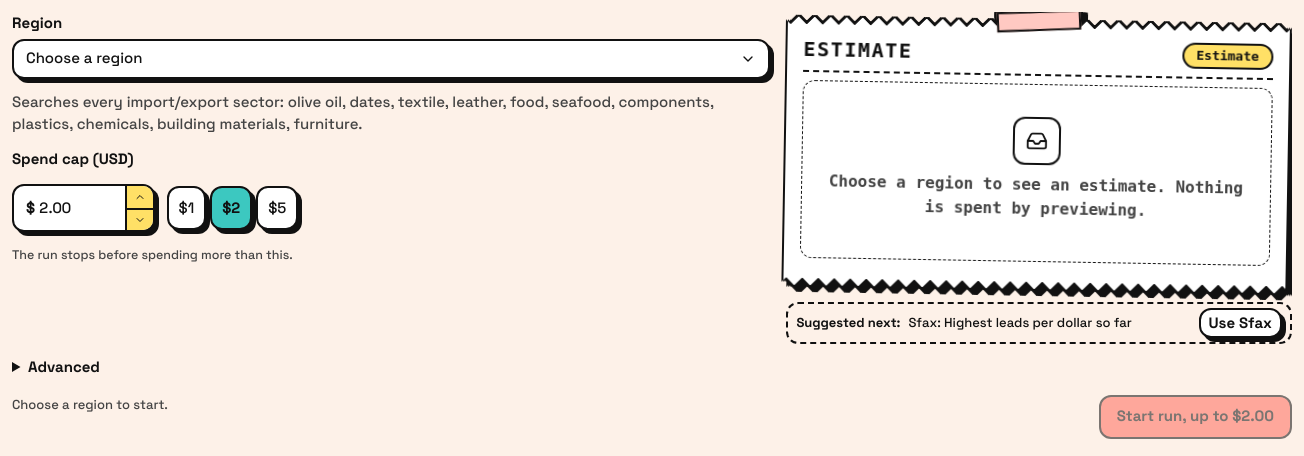
it: Start a run: spend cap › takes the quick choices and shows the cap on the Start button
What coordinates should you click on to do the following:
click the radio button labelled "$5"
I would click on:
 (277, 208)
Its box is [256,186,298,230].
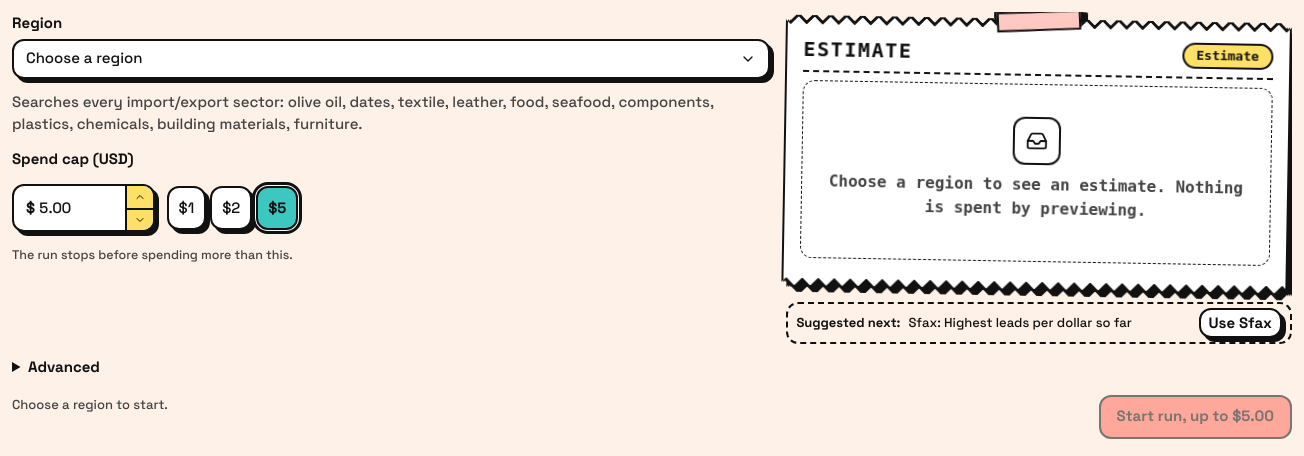
Expected: the number field labelled "Spend cap (USD)" holds "5.00", [35,186,124,230]
Expected: the button "Start run, up to $5.00" is shown, [1099,394,1292,438]
What coordinates should you click on to do the following:
click the radio button labelled "$1"
I would click on:
 (186, 208)
Its box is [166,186,206,230].
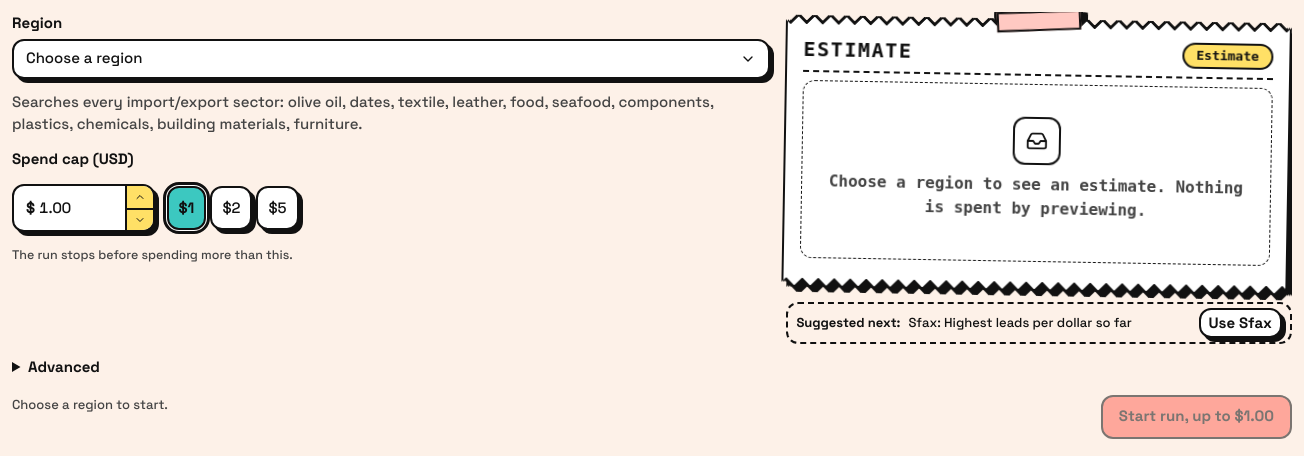
Expected: the button "Start run, up to $1.00" is shown, [1101,394,1292,438]
